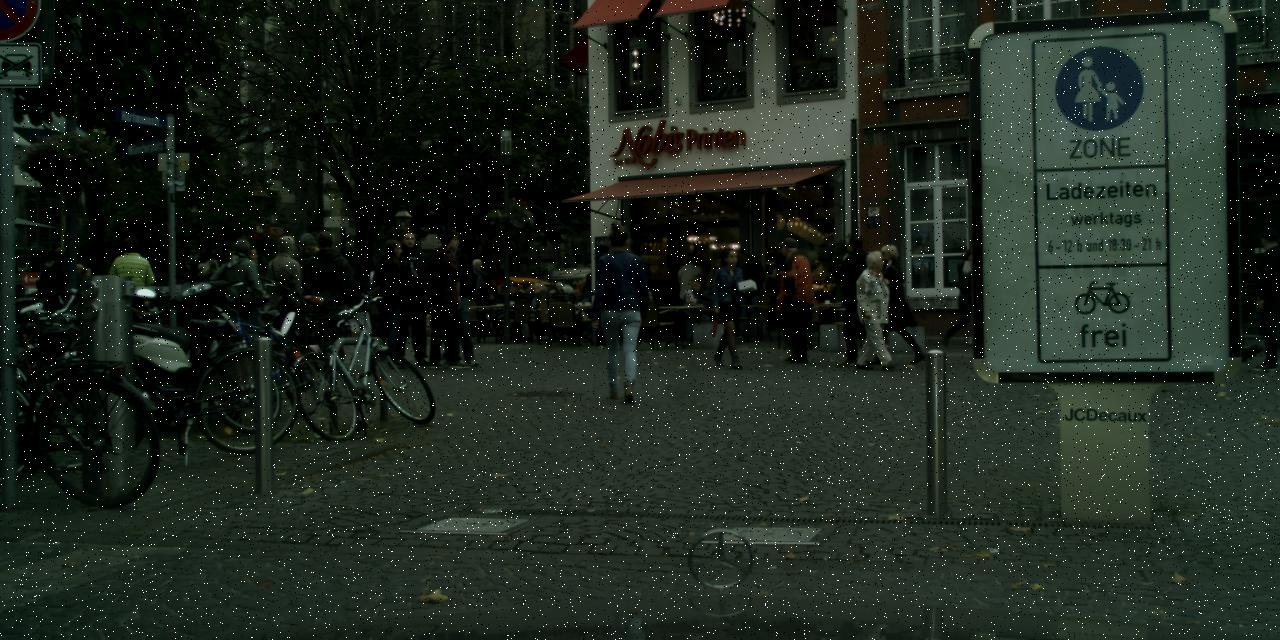ped: (584, 223, 656, 401), (417, 230, 473, 368), (383, 230, 439, 366), (289, 232, 344, 368), (300, 231, 355, 366), (256, 234, 311, 369), (104, 236, 159, 370), (428, 230, 483, 364), (212, 237, 267, 370), (829, 234, 881, 364), (768, 236, 819, 362), (868, 244, 917, 362), (850, 250, 898, 368), (705, 248, 753, 366), (362, 240, 410, 358), (34, 244, 80, 358), (1245, 228, 1279, 369), (232, 245, 272, 344), (946, 247, 986, 342), (519, 272, 592, 316), (732, 248, 766, 334), (679, 272, 712, 346), (463, 258, 494, 334), (702, 256, 732, 331), (33, 258, 63, 330), (199, 260, 228, 332), (675, 254, 704, 324), (186, 262, 214, 332), (64, 263, 88, 325), (694, 259, 718, 317), (75, 266, 98, 326), (490, 284, 503, 304), (596, 324, 606, 346), (588, 297, 592, 301), (650, 292, 652, 294)
